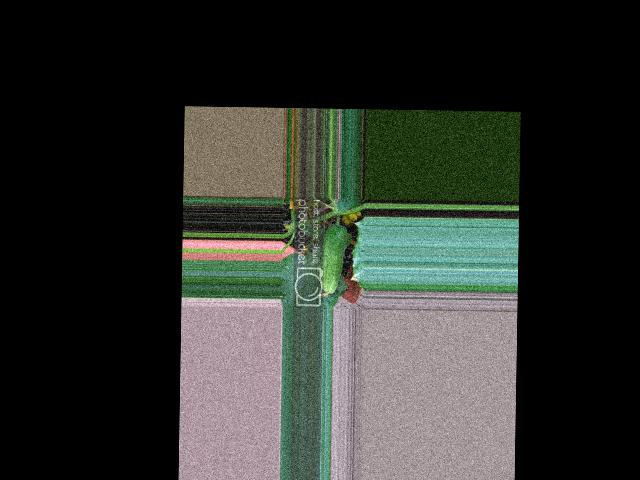cucumber: (318, 225, 347, 294)
